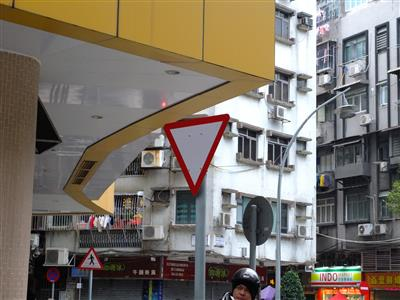noStopping: (43, 265, 60, 283)
pedestrianCrossingR: (74, 242, 105, 272)
yield: (159, 112, 233, 198)
